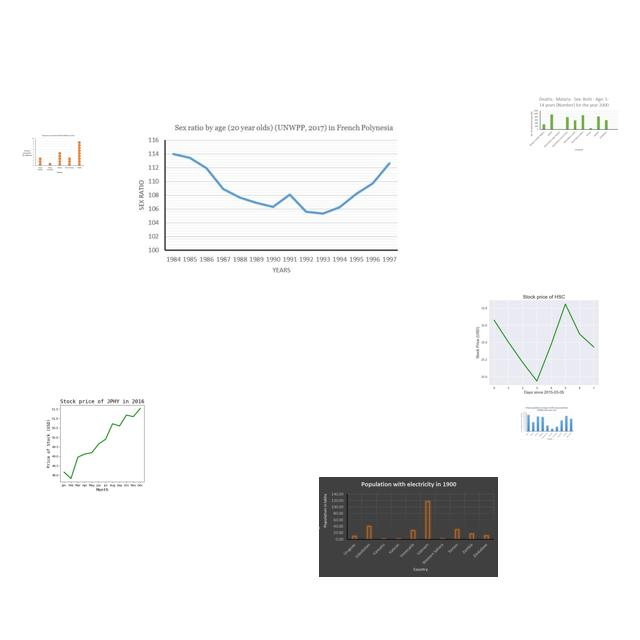Graph: (131, 119, 403, 279), (319, 477, 498, 577), (462, 287, 622, 397), (34, 393, 167, 493), (528, 95, 619, 152), (22, 134, 84, 174), (519, 406, 574, 440)
